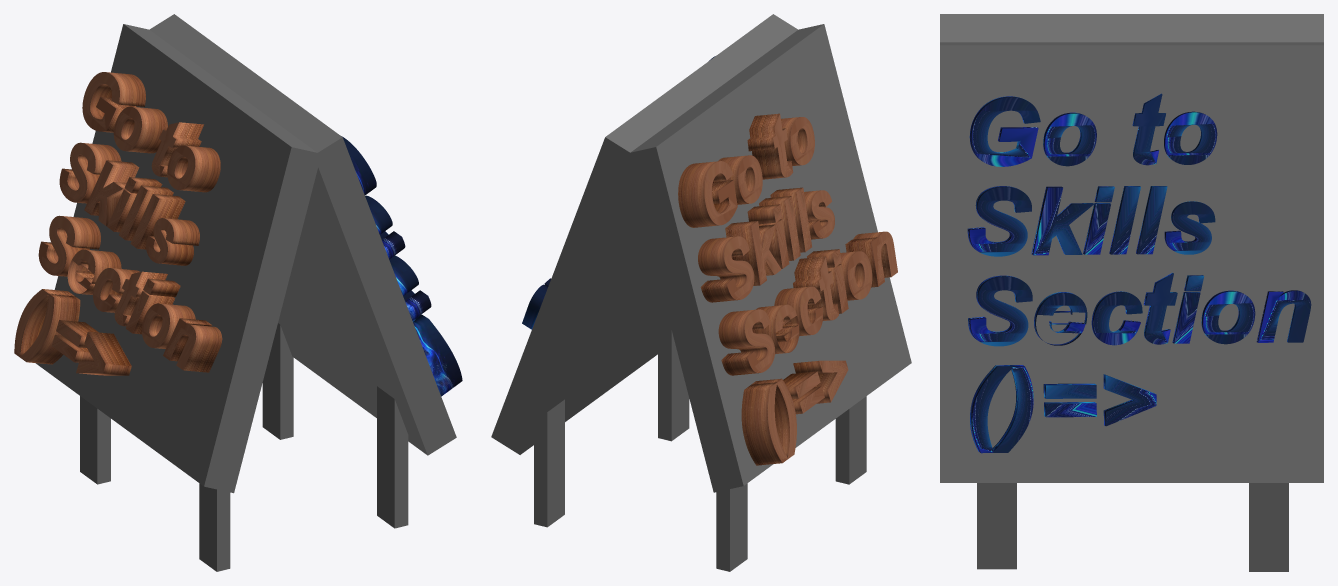
The model's file is banner2.glb.
The picture shows the model from 3 angles, left to right: view 1: azimuth 30°, elevation 25°; view 2: azimuth 150°, elevation 25°; view 3: azimuth 270°, elevation 25°; orthographic projection. The views are drawn at different scales.
Parts seen in each view (by area): view 1: Cube.001, Text, Text.001, Cube.002, Cube.004, Cube, Cube.003; view 2: Cube.001, Text, Cube.004, Cube.002, Cube.003, Cube, Text.001; view 3: Cube.001, Text.001, Cube.004, Cube.002.
Boxes of the visible parts, box(x1,y1,x2,y2) form: Cube.001: box(35, 14, 456, 493); Text: box(14, 72, 222, 375); Text.001: box(341, 136, 462, 396); Cube.002: box(377, 386, 408, 528); Cube.004: box(262, 323, 293, 439); Cube: box(199, 483, 230, 571); Cube.003: box(80, 396, 110, 484); Cube.001: box(491, 14, 911, 492); Text: box(678, 113, 897, 465); Cube.004: box(534, 399, 564, 527); Cube.002: box(658, 319, 689, 441); Cube.003: box(716, 483, 747, 571); Cube: box(835, 396, 866, 484); Text.001: box(522, 56, 715, 329); Cube.001: box(940, 14, 1323, 482); Text.001: box(967, 93, 1311, 453); Cube.004: box(1249, 483, 1288, 571); Cube.002: box(977, 483, 1016, 569).
Bounding box in the file's own units: 3.49 × 4.59 × 3.31.
3 materials, 2 textured.
